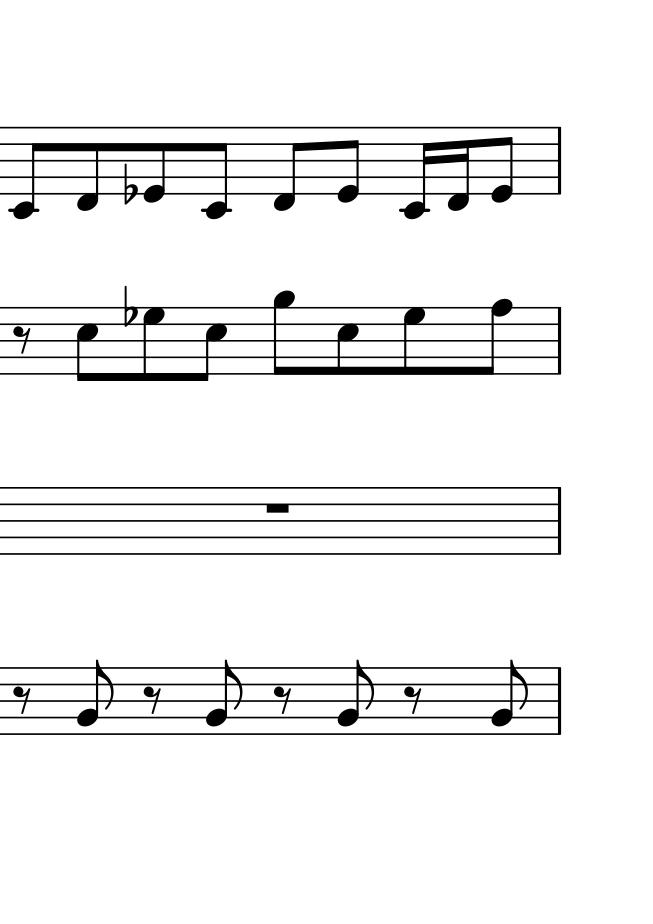16_-1: (446, 125, 470, 213)
16_-2: (400, 126, 432, 221)
8_-1: (271, 126, 304, 214), (75, 126, 101, 214)
8_-2: (8, 125, 44, 219), (202, 126, 234, 219)
8_0: (336, 126, 362, 206), (142, 126, 168, 205), (489, 126, 515, 205)
8_2: (337, 659, 374, 735), (491, 658, 527, 735), (77, 660, 114, 734), (206, 660, 243, 734)
8_5: (195, 306, 228, 383), (74, 305, 99, 384), (335, 304, 360, 378)
8_7: (140, 306, 166, 383), (401, 305, 427, 377)
8_8: (478, 297, 511, 377)
8_9: (272, 289, 295, 377)
Flat: (122, 283, 138, 330), (121, 162, 137, 207)
Rests1: (262, 500, 292, 516)
Rests8: (12, 684, 35, 716), (142, 684, 163, 716), (273, 684, 294, 716), (403, 684, 424, 715), (12, 324, 32, 354)
Single_barline: (551, 668, 567, 734), (551, 488, 567, 553), (552, 307, 567, 373), (553, 128, 567, 195)
